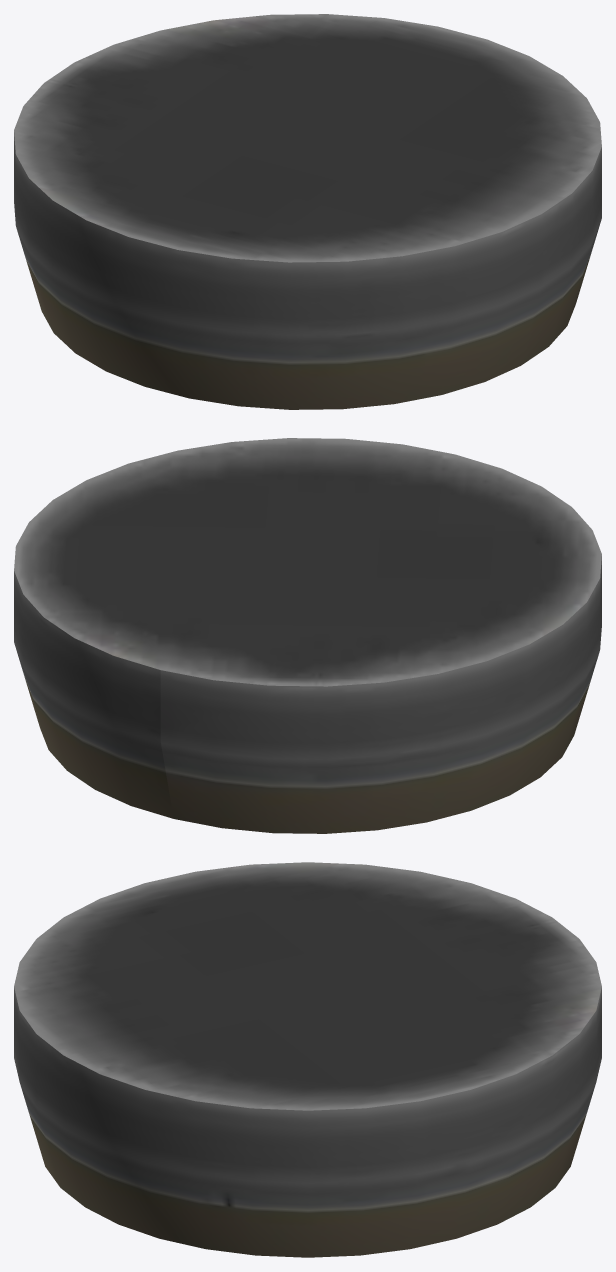
The model's file is office_ceiling_light_a_off.glb.
The picture shows the model from 3 angles, top to bottom: view 1: azimuth 30°, elevation 25°; view 2: azimuth 150°, elevation 25°; view 3: azimuth 270°, elevation 25°; orthographic projection.
Visible parts, largest first — view 1: office_ceiling_light_a_off; view 2: office_ceiling_light_a_off; view 3: office_ceiling_light_a_off.
Boxes of the visible parts, x1,y1,x2,y2 form: office_ceiling_light_a_off: [14, 14, 601, 409]; office_ceiling_light_a_off: [14, 438, 601, 833]; office_ceiling_light_a_off: [14, 862, 601, 1257].
Size of the model in its own units: 0.2498 by 0.0741 by 0.2498.
Materials: 1 (1 with a texture image).
